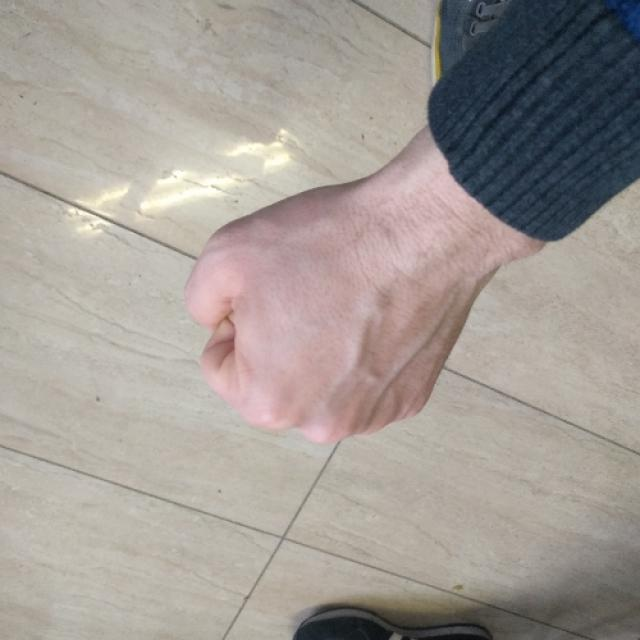rock: (185, 185, 436, 446)
